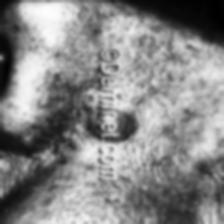Potentially Malignant Skin Tumors: (116, 105, 144, 144), (84, 106, 103, 140)
